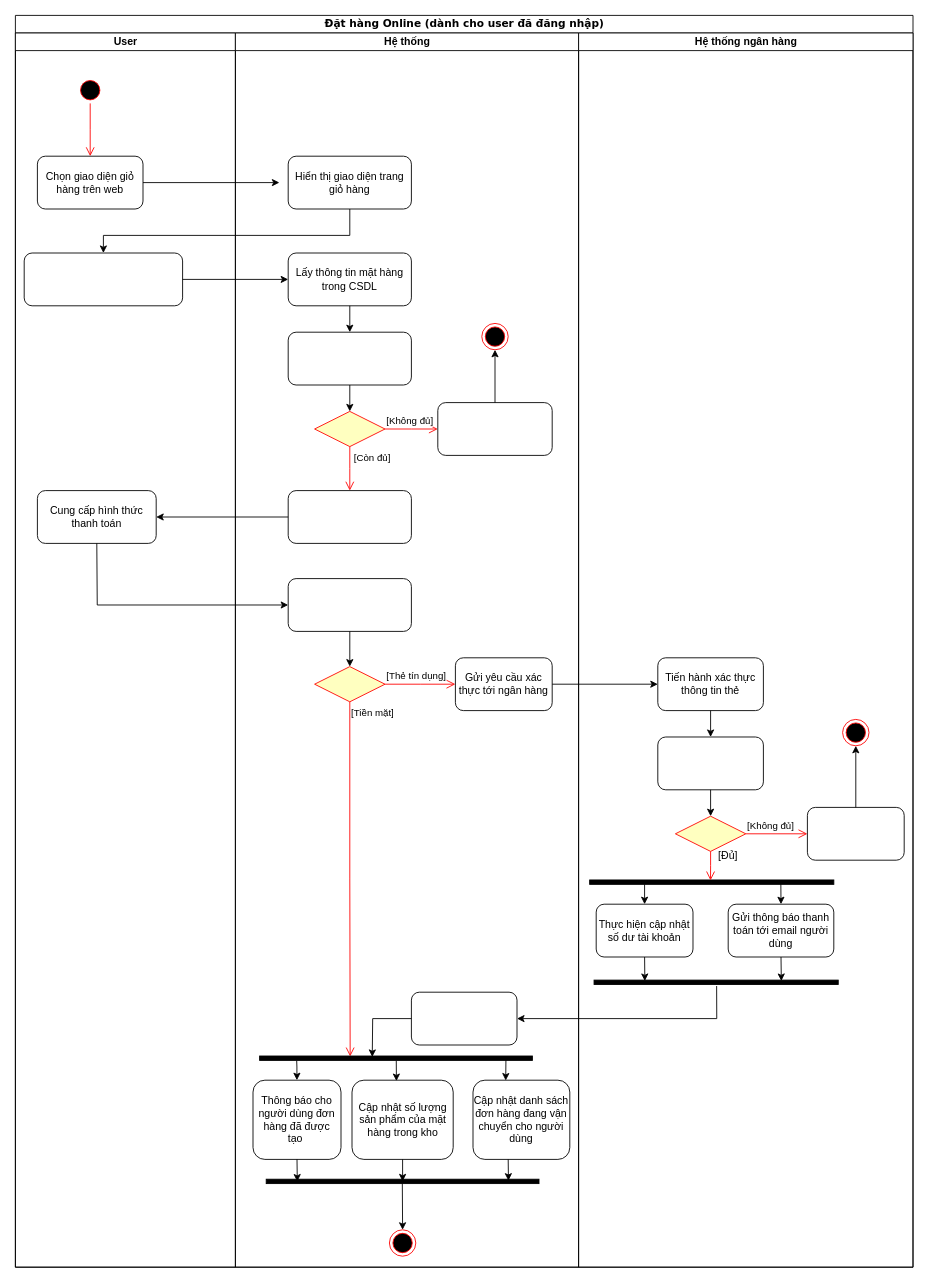
Some shapes in this 928 by 1283 pixel diagram are drawn without their labels. Each missing label, with the box of its shape:
Hiển thị thông báo thanh toán thành công: (411, 991, 517, 1045)
Kiểm tra hình thức thanh toán: (287, 578, 411, 631)
Kiểm tra số dư tài khoản: (657, 736, 763, 790)
Kiểm tra xem số lượng sản phẩm trong kho có đủ?: (287, 331, 411, 385)
Nhập địa chỉ, số điện thoại nhận hàng, chọn mã giảm giá, phương thức giao hàng: (23, 252, 183, 306)
Thông báo sản phẩm không đủ số lượng: (437, 402, 552, 455)
Thông báo số dư tài khoản không đủ: (807, 807, 904, 860)
Yêu cầu người dùng chọn hình thức thanh toán: (287, 490, 411, 543)
